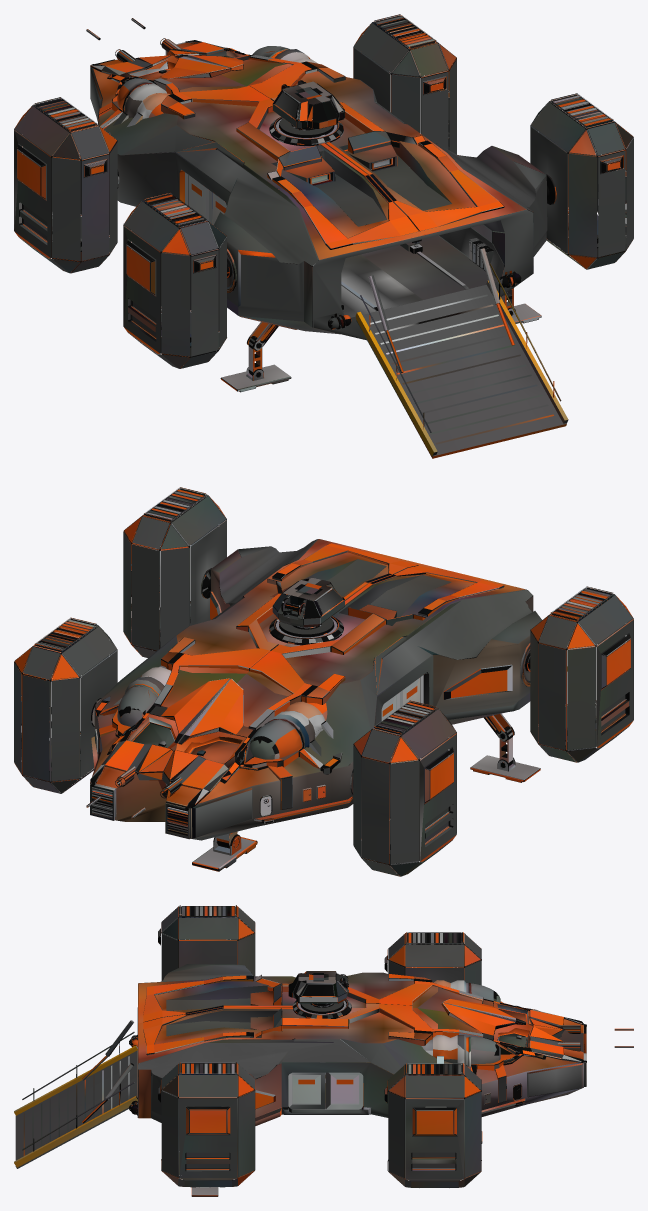
The model's file is drifter_patience.glb.
3 views of the same model, one above another, from view 1: azimuth 30°, elevation 25°; view 2: azimuth 150°, elevation 25°; view 3: azimuth 270°, elevation 25° (orthographic). The views are drawn at different scales.
Parts seen in each view (by area): view 1: drifter_patience; view 2: drifter_patience; view 3: drifter_patience.
Boxes of the visible parts, x1,y1,x2,y2 form: drifter_patience: [14, 14, 633, 458]; drifter_patience: [14, 487, 633, 876]; drifter_patience: [14, 905, 633, 1196].
Bounding box in the file's own units: 25.18 × 10.52 × 35.49.
Materials: 9 (9 with a texture image).
